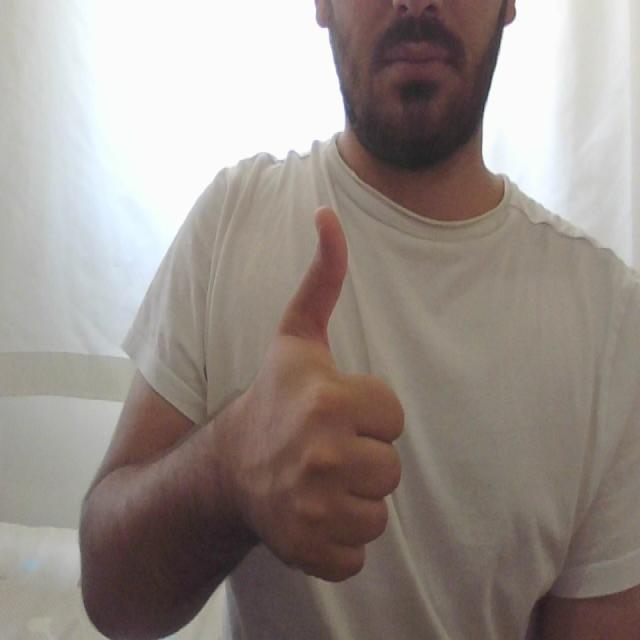Tamam: (235, 200, 410, 590)
